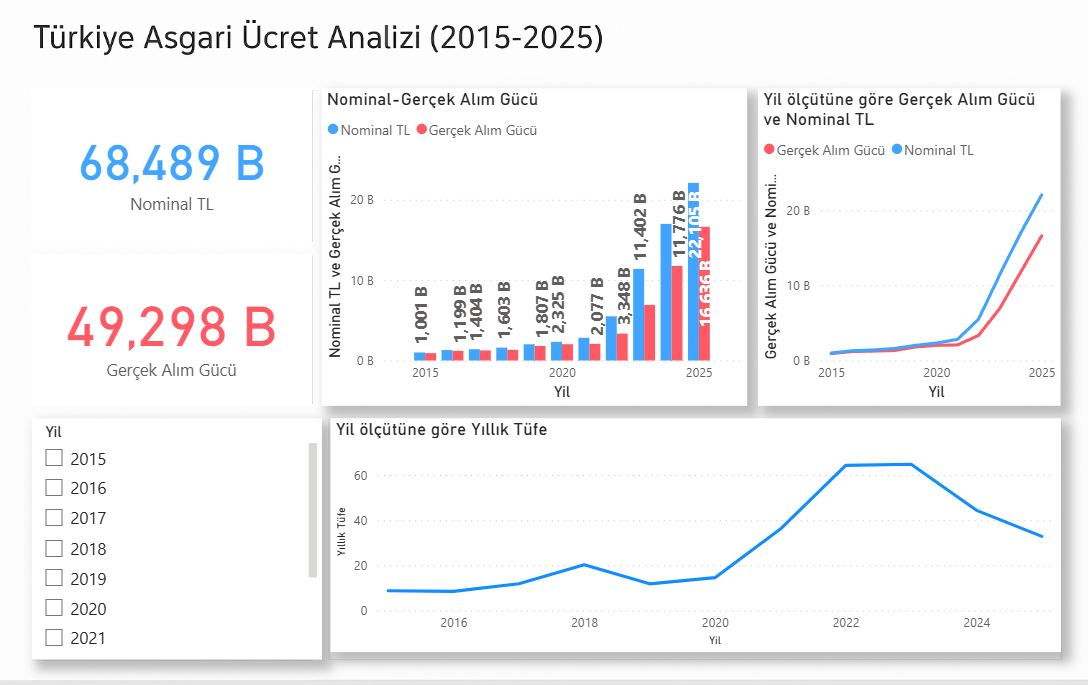

This screenshot's page, from the dashboard's own definition file:
{"tool":"powerbi","page":{"name":"1. sayfa","canvas":[1280,720],"ordinal":0},"visuals":[{"type":"image","box":[107.4,0,1155.7,720.2],"z":0},{"type":"slicer","fields":{"Values":["Sheet1.Yil"]},"box":[187,445.2,279.9,232.8],"z":1000},{"type":"clusteredColumnChart","title":"Nominal-Gerçek Alım Gücü","fields":{"Category":["Sheet1.Yil"],"Y":["Sum(Sheet1.Nominal_TL)","Sum(Sheet1.Gercek_Alim_Gucu_TL)"]},"box":[466.9,126.7,410.2,306.4],"z":2000},{"type":"card","fields":{"Values":["Sum(Sheet1.Nominal_TL)"]},"box":[187,126.7,270.2,153.2],"z":3000},{"type":"card","fields":{"Values":["Sum(Sheet1.Gercek_Alim_Gucu_TL)"]},"box":[187,287.1,270.2,146],"z":4000},{"type":"lineChart","fields":{"Category":["Sheet1.Yil"],"Y":["Sum(Sheet1.Gercek_Alim_Gucu_TL)","Sum(Sheet1.Nominal_TL)"]},"box":[887.9,126.7,292,306.4],"z":5000},{"type":"lineChart","fields":{"Y":["Sum(Sheet1.TUFE_Yillik_%)"],"Category":["Sheet1.Yil"]},"box":[475.3,445.2,704.5,225.6],"z":6000}]}

Visuals, with their boxes on the page's 1280x720 design canvas (x1, y1, x2, y2). These are canvas units, not pixel positions in the 1088x685 screenshot, which may show the page scaled, cropped or inside an application window:
image: [left=107, top=0, right=1263, bottom=720]
slicer - Sheet1.Yil: [left=187, top=445, right=467, bottom=678]
"Nominal-Gerçek Alım Gücü" clusteredColumnChart: [left=467, top=127, right=877, bottom=433]
card - Sum(Sheet1.Nominal_TL): [left=187, top=127, right=457, bottom=280]
card - Sum(Sheet1.Gercek_Alim_Gucu_TL): [left=187, top=287, right=457, bottom=433]
lineChart - Sheet1.Yil x Sum(Sheet1.Gercek_Alim_Gucu_TL): [left=888, top=127, right=1180, bottom=433]
lineChart - Sum(Sheet1.TUFE_Yillik_%) x Sheet1.Yil: [left=475, top=445, right=1180, bottom=671]
